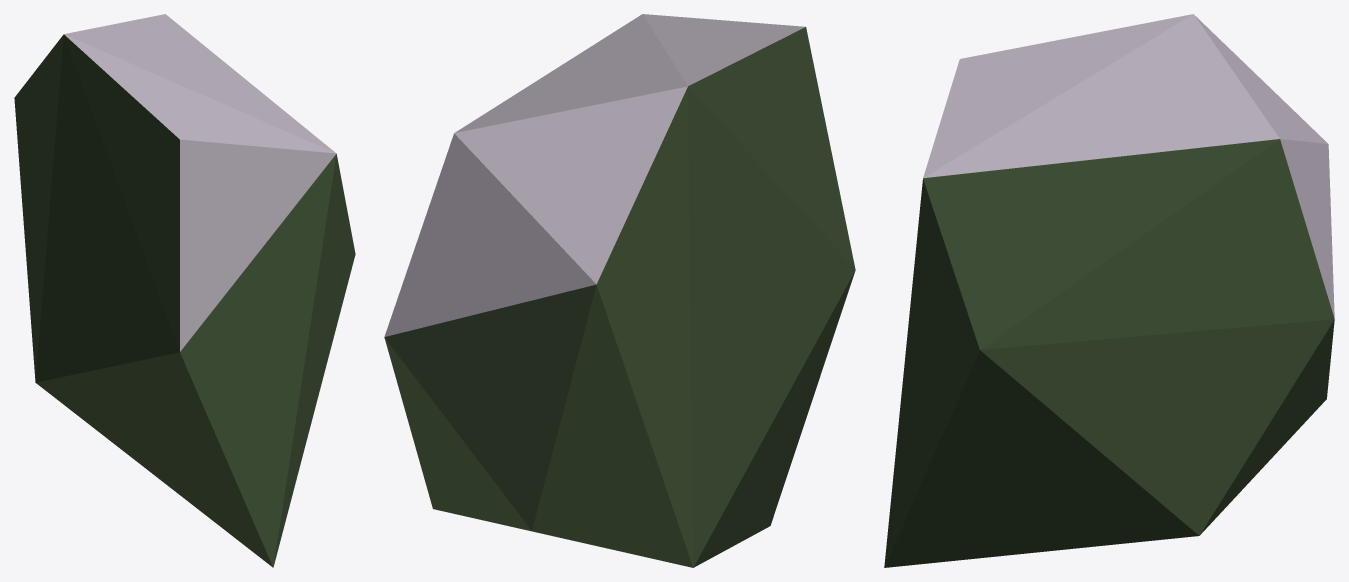
The model's file is Willow_Snow_3.lod4.glb.
3 views of the same model, side by side, from view 1: azimuth 30°, elevation 25°; view 2: azimuth 150°, elevation 25°; view 3: azimuth 270°, elevation 25° (orthographic). The views are drawn at different scales.
Parts seen in each view (by area): view 1: Willow_Snow_3; view 2: Willow_Snow_3; view 3: Willow_Snow_3.
Boxes of the visible parts, box(x1,y1,x2,y2) form: Willow_Snow_3: box(14, 14, 355, 567); Willow_Snow_3: box(384, 14, 855, 567); Willow_Snow_3: box(884, 14, 1334, 567).
Bounding box in the file's own units: 1.22 × 2.47 × 1.96.
